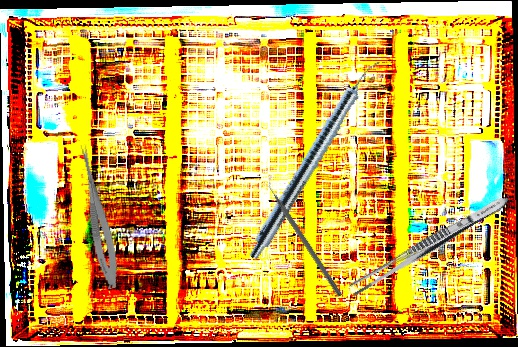Chopper: (262, 173, 349, 298)
Dressing Forceps: (346, 190, 513, 300)
Handpiece: (245, 53, 384, 265)
Micro Scissor: (70, 142, 125, 291)
